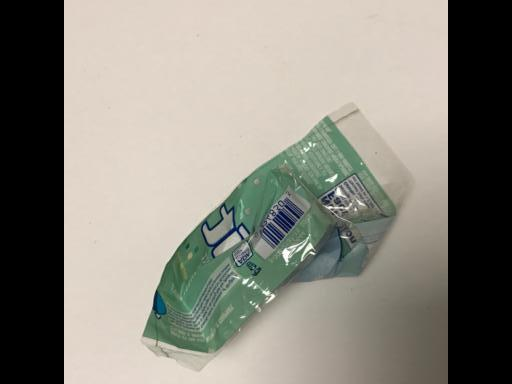trash: (141, 101, 414, 372)
